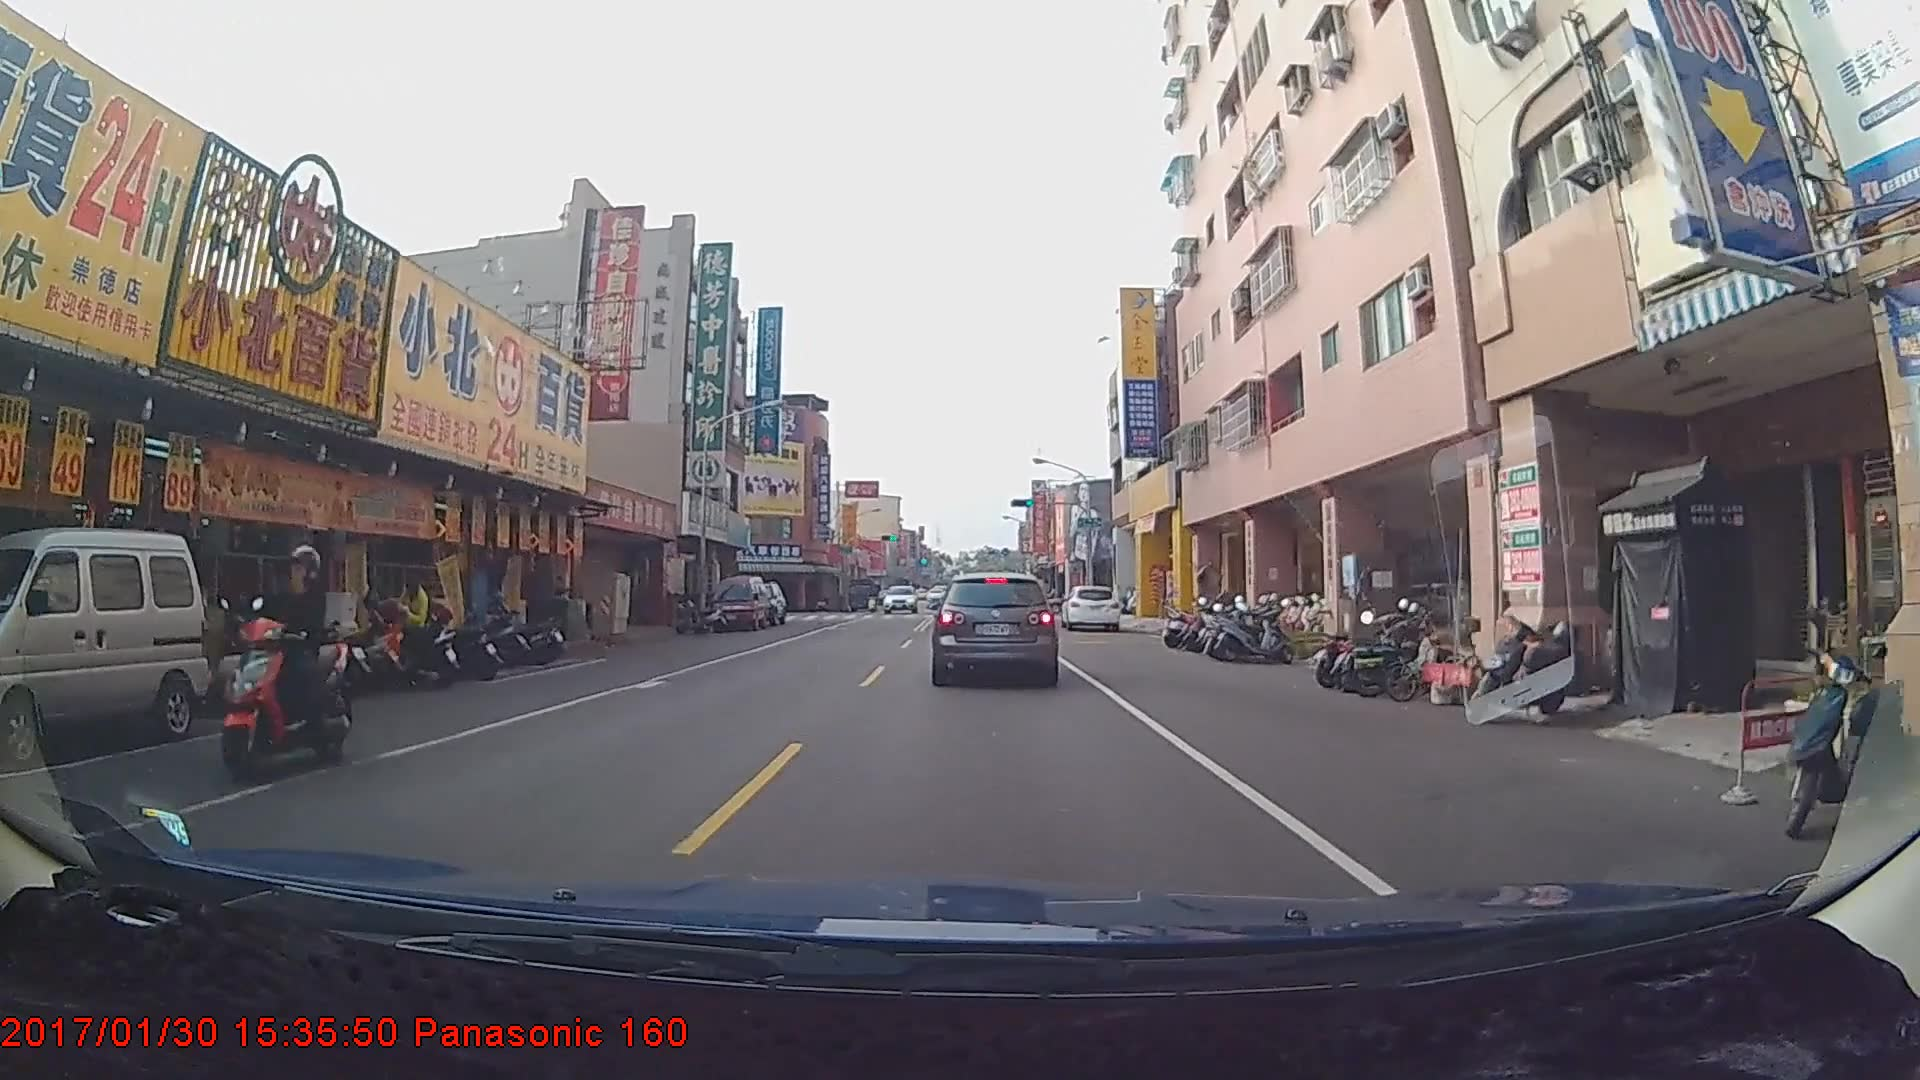pedestrian: (388, 571, 430, 674)
rider: (200, 543, 353, 786)
vehicle: (0, 522, 205, 754), (934, 568, 1055, 683), (710, 571, 770, 628), (1061, 585, 1121, 633), (880, 581, 919, 615)
